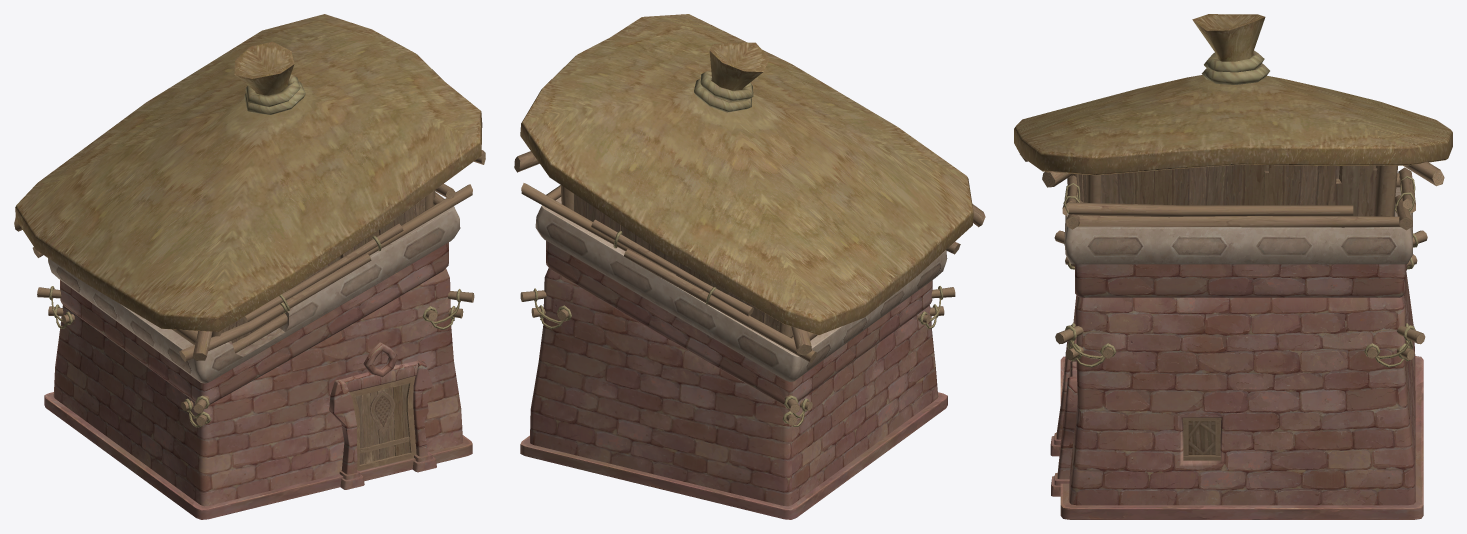
File: Homeworld_Exterior_Xm_Build_Arvillage_06_Lod0.fbx
3 renders of one model, left to right at view 1: azimuth 30°, elevation 25°; view 2: azimuth 150°, elevation 25°; view 3: azimuth 270°, elevation 25°, orthographic. The views are drawn at different scales.
Parts seen in each view (by area): view 1: Area_Xm_Build_ARC_House_F_01_Lod0; view 2: Area_Xm_Build_ARC_House_F_01_Lod0; view 3: Area_Xm_Build_ARC_House_F_01_Lod0.
Boxes of the visible parts, x1=… form: Area_Xm_Build_ARC_House_F_01_Lod0: x1=14, y1=14, x2=485, y2=519; Area_Xm_Build_ARC_House_F_01_Lod0: x1=514, y1=14, x2=985, y2=519; Area_Xm_Build_ARC_House_F_01_Lod0: x1=1014, y1=14, x2=1452, y2=519.
Size of the model in its own units: 9.7 by 10.38 by 9.54.
